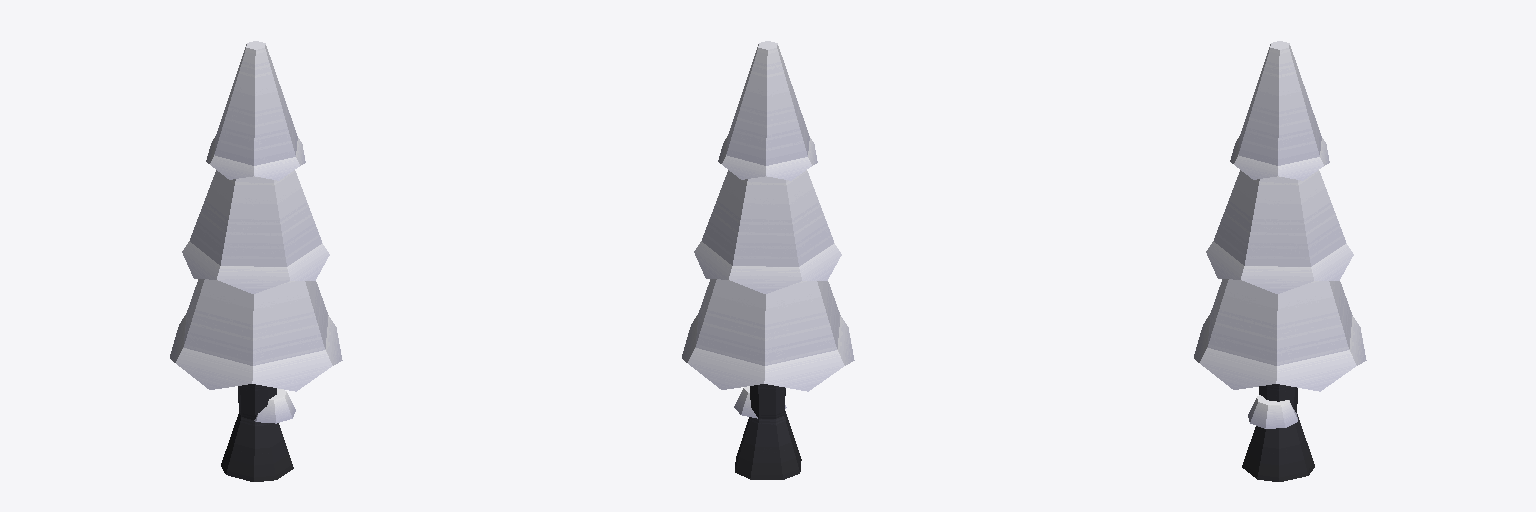
3 renders of one model, left to right at view 1: azimuth 30°, elevation 25°; view 2: azimuth 150°, elevation 25°; view 3: azimuth 270°, elevation 25°, orthographic.
Visible parts, largest first — view 1: tree.036; view 2: tree.036; view 3: tree.036.
Boxes of the visible parts, x1=… form: tree.036: x1=170, y1=41, x2=342, y2=481; tree.036: x1=682, y1=41, x2=854, y2=479; tree.036: x1=1194, y1=41, x2=1366, y2=481.
Bounding box in the file's own units: 1.36 × 3.47 × 1.29.
Materials: 1 (1 with a texture image).